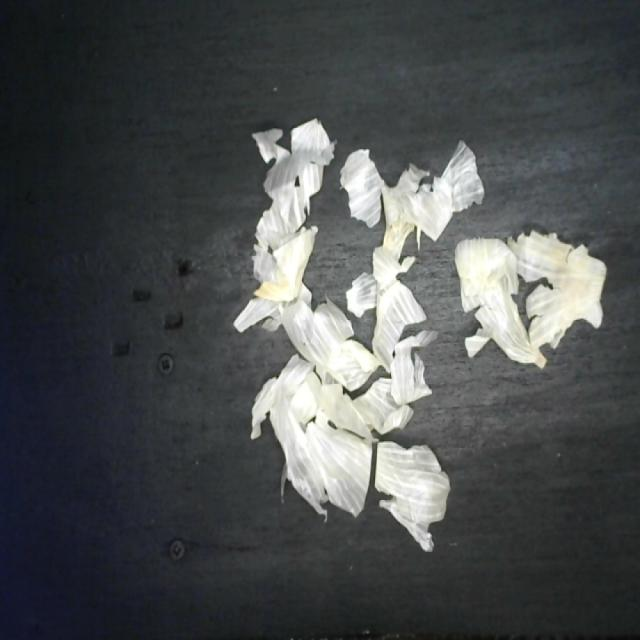biodegradable: (230, 114, 612, 560)
